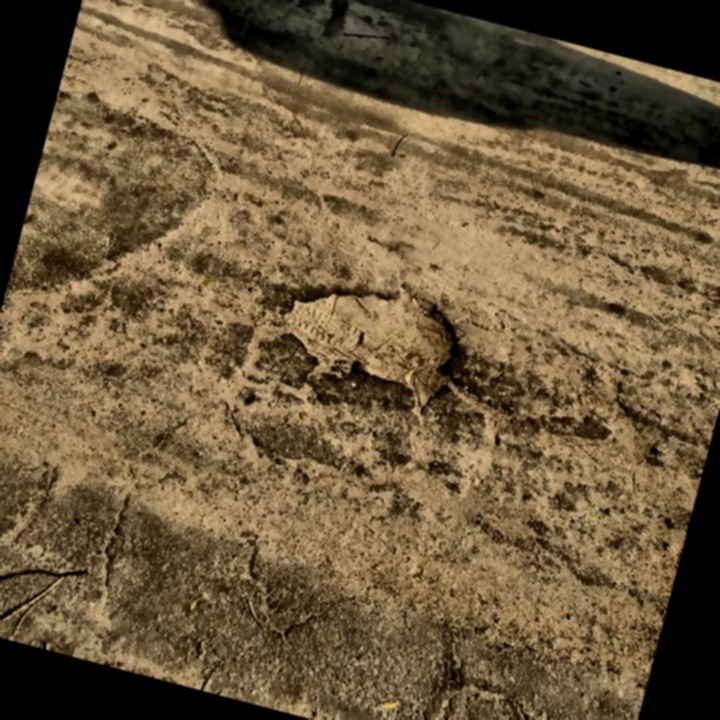pothole: (266, 254, 479, 420)
